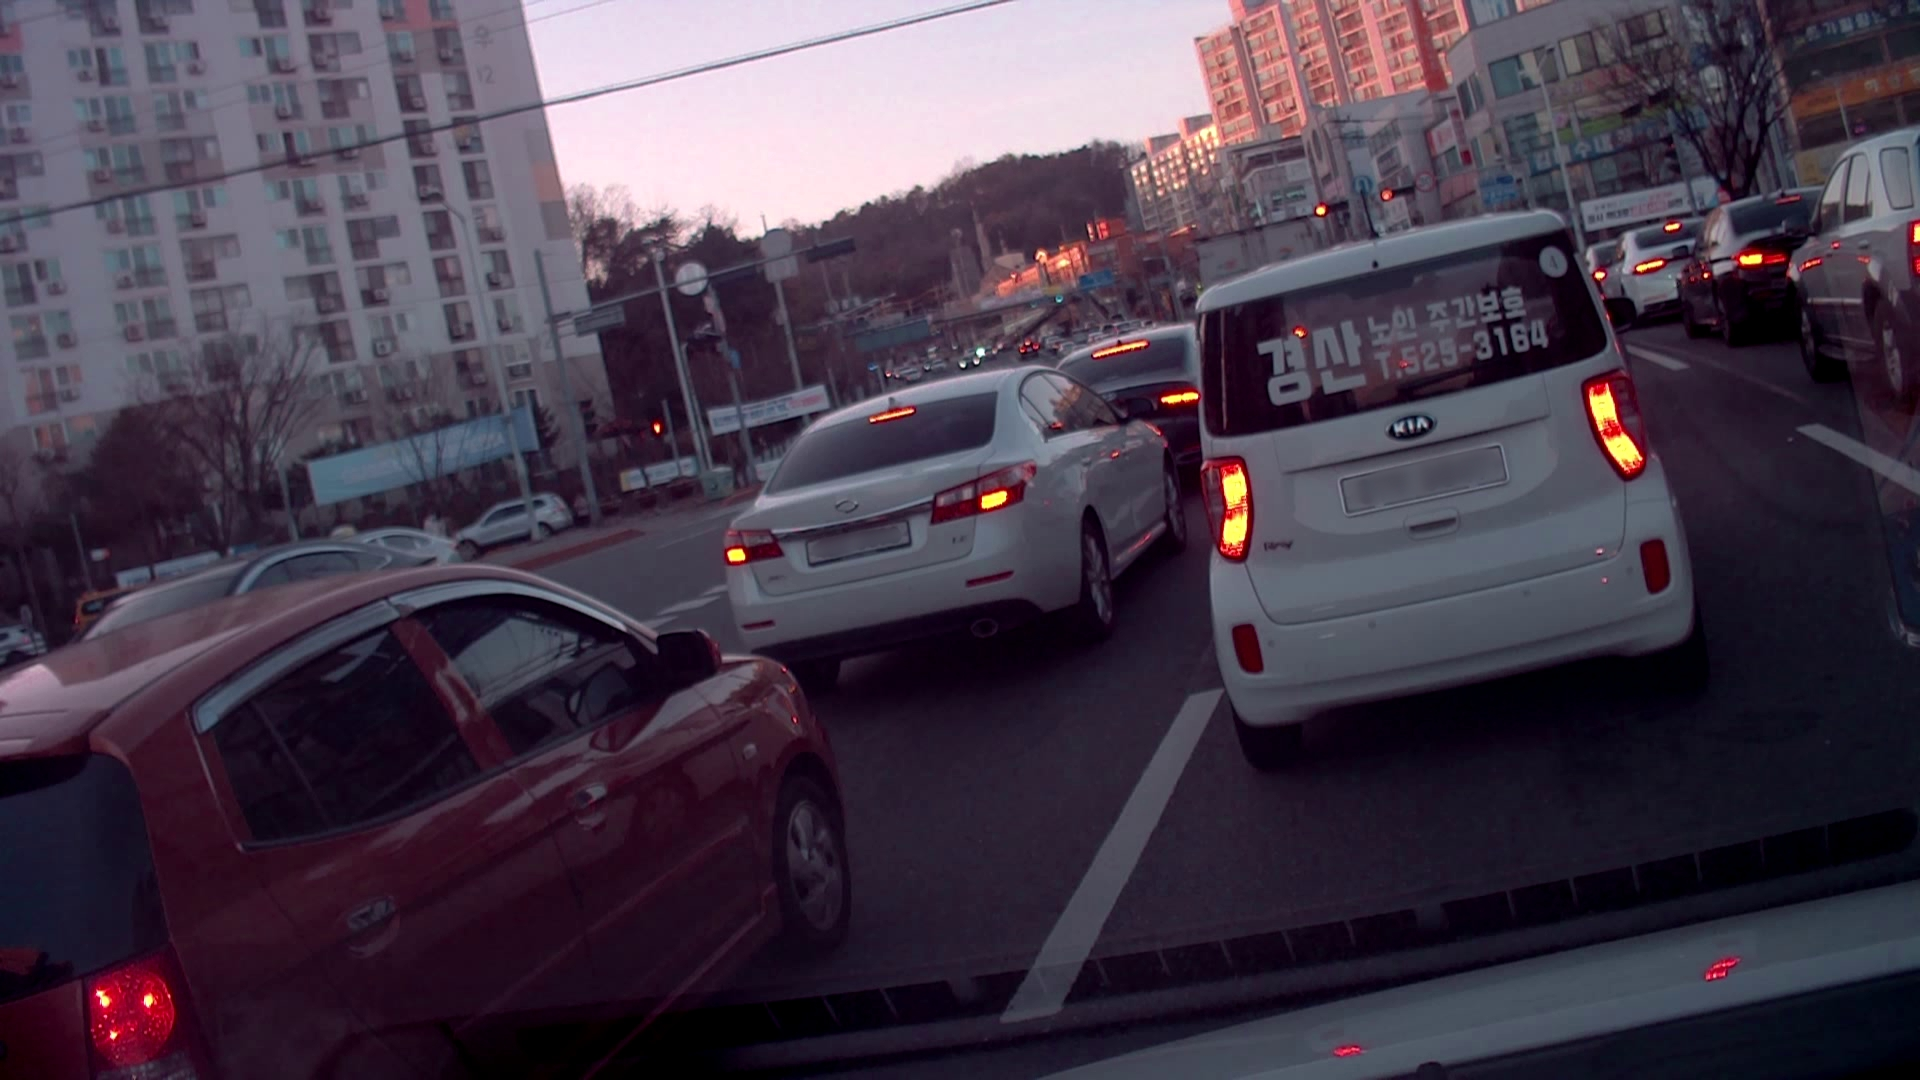trafficLight: (1309, 200, 1356, 216), (1381, 185, 1414, 202)
